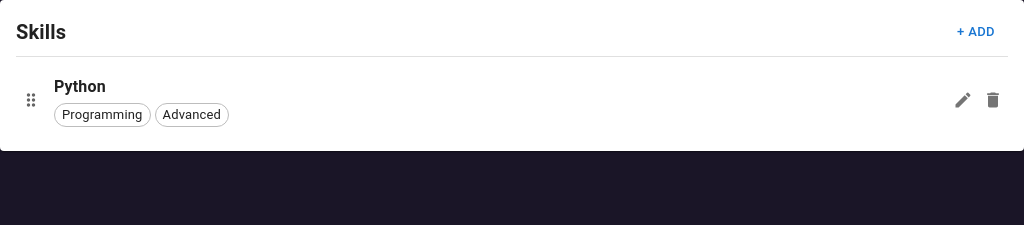
Test case: SkillsSection › shows error message when delete fails
Click the button named "delete skill" at (993, 100), box x1=978 y1=85 x2=1008 y2=115
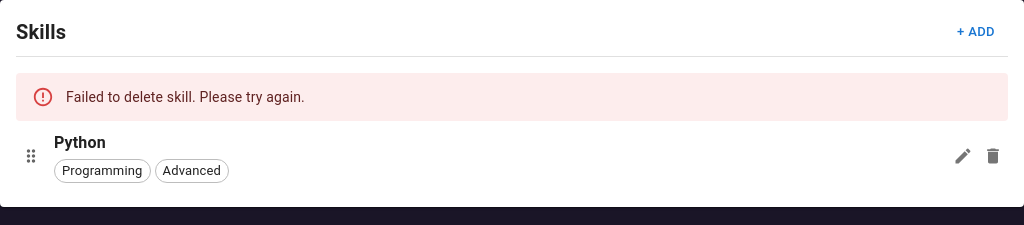
Result: the text "Failed to delete skill. Please try again." is shown at x1=66 y1=89 x2=305 y2=105
